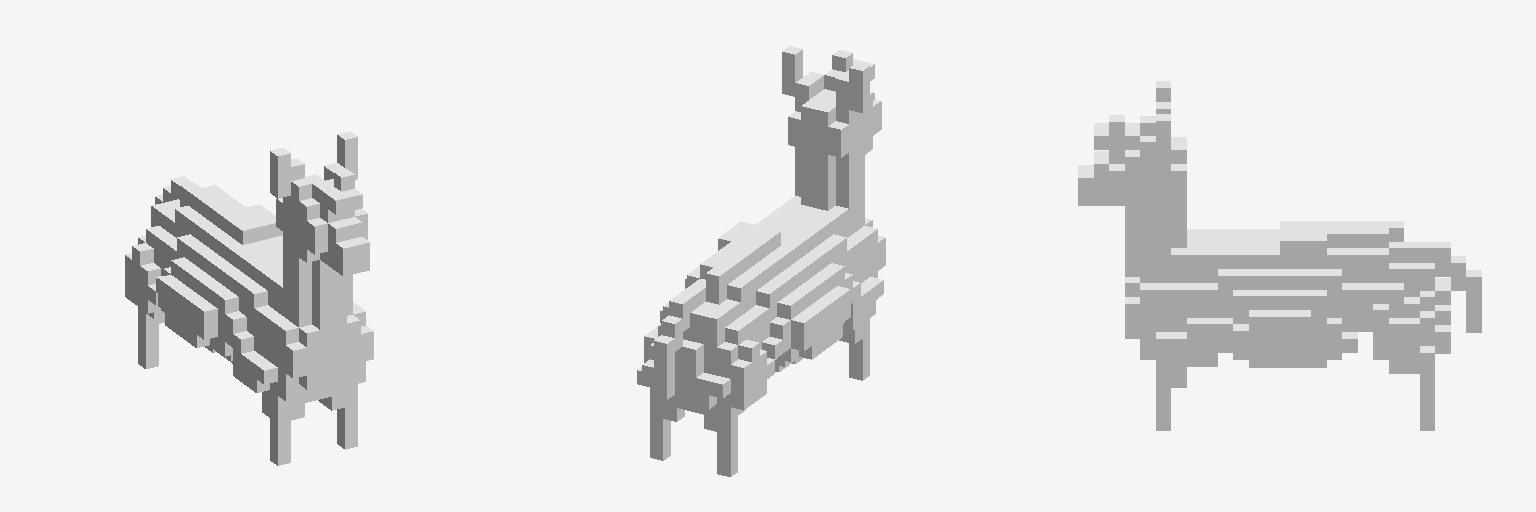
File: lama.obj
3 renders of one model, left to right at view 1: azimuth 30°, elevation 25°; view 2: azimuth 150°, elevation 25°; view 3: azimuth 270°, elevation 25°, orthographic.
Bounding box in the file's own units: 10 × 22 × 26.